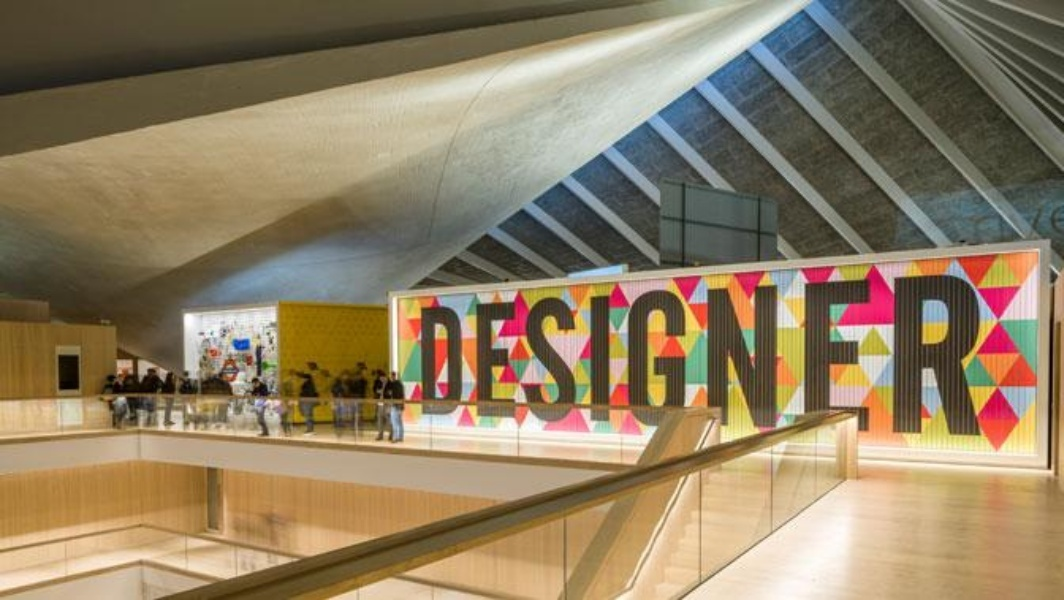text: (433, 268, 448, 439), (449, 268, 464, 439), (465, 268, 480, 439), (481, 268, 496, 439), (497, 268, 512, 439), (513, 268, 528, 439), (529, 268, 544, 439), (545, 268, 560, 439), (561, 268, 576, 439), (577, 268, 592, 439), (593, 268, 608, 439), (609, 268, 624, 439), (625, 268, 640, 439), (641, 268, 656, 439), (657, 268, 672, 439), (673, 268, 688, 439), (689, 268, 704, 439), (705, 268, 720, 439), (721, 268, 736, 439), (737, 268, 752, 439), (753, 268, 768, 439), (769, 268, 784, 439), (785, 268, 800, 439), (801, 268, 816, 439), (817, 268, 832, 439), (833, 268, 848, 439), (849, 268, 864, 439), (865, 268, 880, 439), (881, 268, 896, 439), (897, 268, 912, 439), (913, 268, 928, 439), (929, 268, 944, 439), (945, 268, 960, 439), (961, 268, 976, 439), (419, 268, 432, 439), (977, 268, 989, 439)
